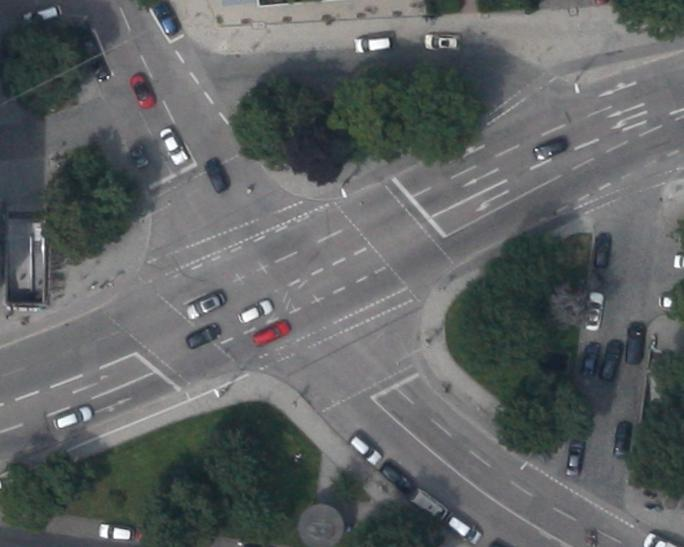car: (378, 459, 416, 496), (410, 488, 450, 522), (156, 125, 189, 166), (183, 289, 226, 320), (445, 512, 483, 546), (250, 318, 292, 348), (51, 403, 94, 432), (22, 1, 62, 28), (599, 338, 624, 381), (152, 0, 180, 38), (348, 435, 382, 466), (236, 298, 273, 326), (532, 134, 568, 162), (184, 323, 221, 350), (202, 158, 229, 194), (128, 73, 154, 110), (624, 321, 646, 364), (612, 418, 633, 460), (97, 522, 134, 543), (585, 291, 604, 331), (564, 438, 584, 476), (354, 34, 391, 54), (580, 344, 600, 377), (424, 32, 460, 50), (592, 232, 610, 268), (89, 56, 111, 83), (128, 144, 150, 169)
